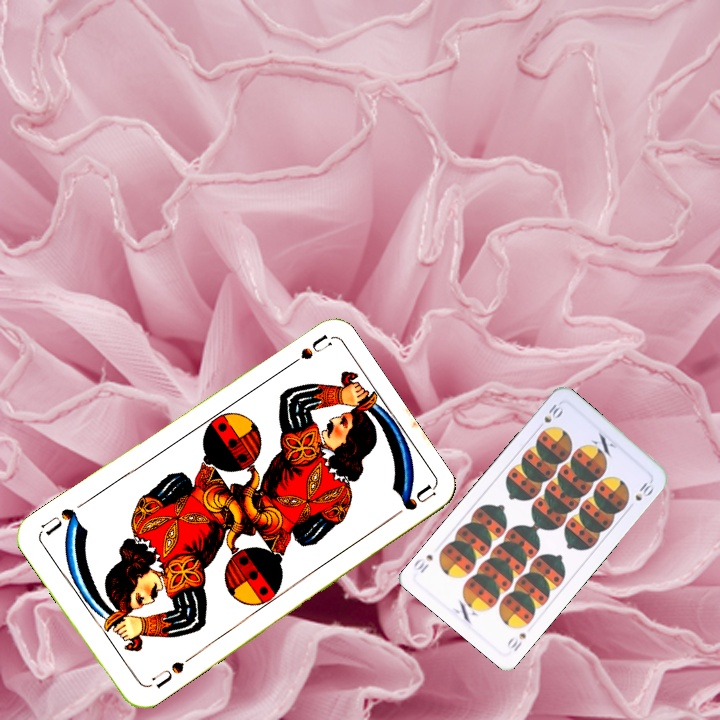S10: (533, 400, 567, 433), (503, 628, 529, 654)
SU: (278, 331, 333, 374), (148, 657, 187, 691)
